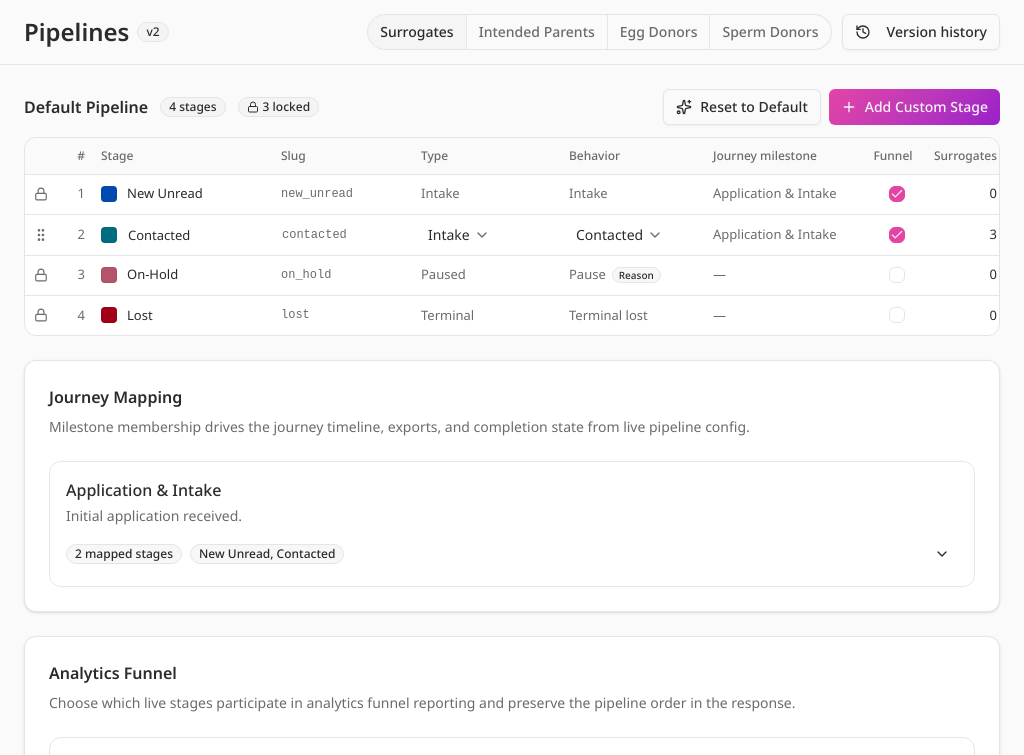
PipelinesSettingsPage › switches to intended-parent scope from the header entity selector and hides surrogate-only editors
Click the button "Intended Parents" at (537,32), box [467,14,608,50]
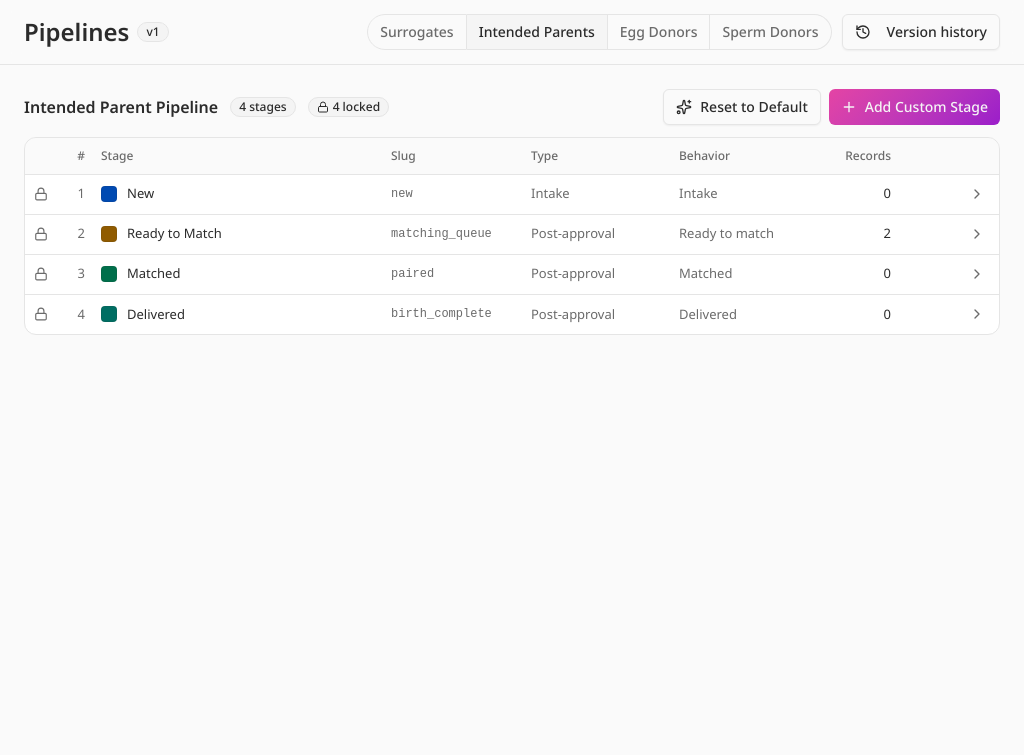
Expected: the text "Journey Mapping" is gone
Expected: the text "Analytics Funnel" is gone
Expected: the column heading "Journey milestone" is gone
Click the button named "Open Ready to Match settings" at (977,234), box [963,220,991,248]
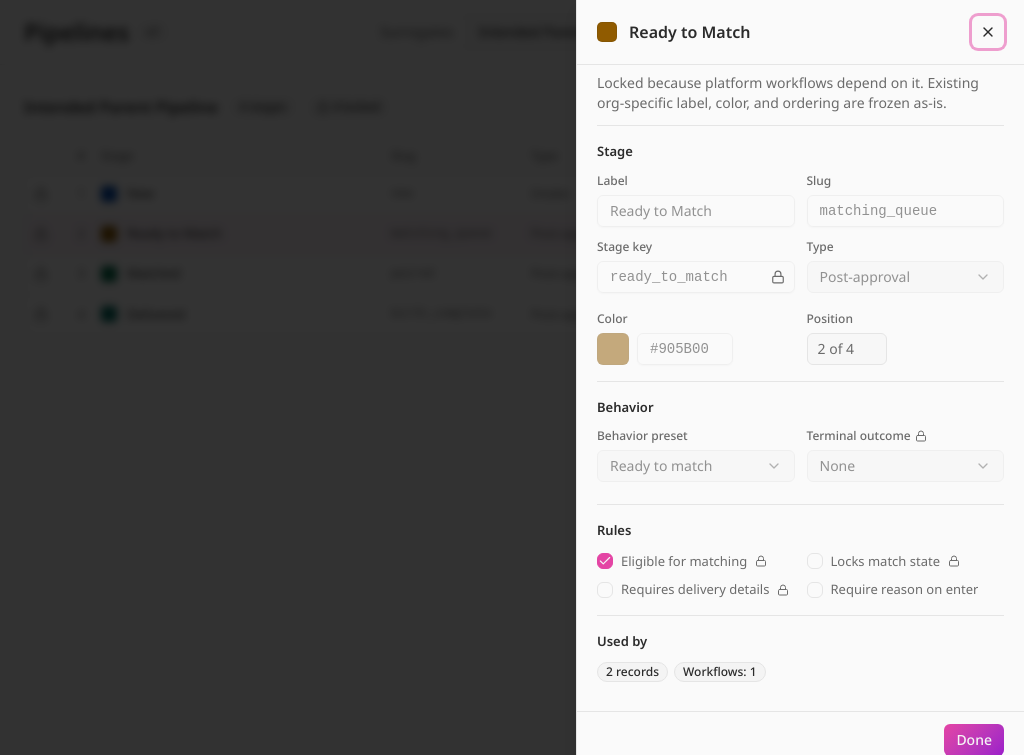
Expected: the text "2 records" is shown, [597,662,668,682]
